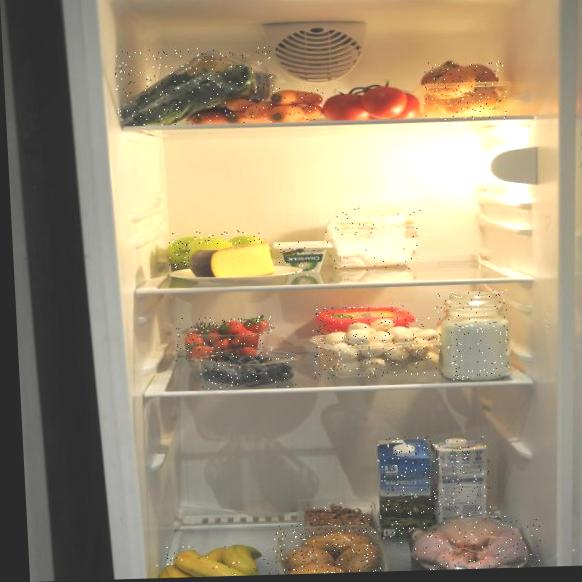apple: (167, 230, 266, 269)
banana: (155, 543, 274, 578)
blueberries: (200, 351, 296, 390)
butter: (315, 305, 415, 343)
carrot: (185, 86, 327, 125)
cheese: (190, 242, 279, 281)
chicken: (407, 512, 541, 571)
flour: (321, 206, 428, 272)
goat_cheese: (270, 240, 332, 277)
milk: (376, 436, 443, 544), (432, 436, 493, 541)
mushrooms: (311, 317, 443, 379)
onion: (422, 60, 508, 120)
potato: (272, 522, 383, 575)
shrimp: (300, 501, 378, 535)
spinach: (114, 46, 275, 126)
strawberries: (174, 315, 276, 363)
sugar: (434, 289, 511, 383)
tomato: (323, 81, 425, 124)
